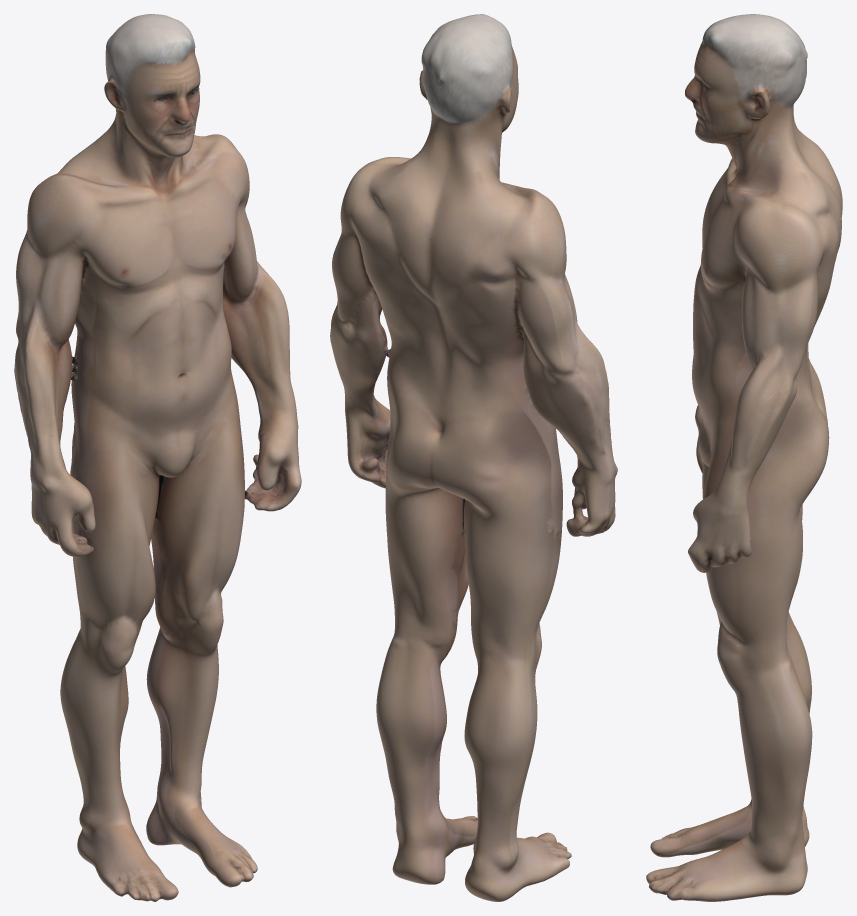
File: oldman.glb
3 views of the same model, side by side, from view 1: azimuth 30°, elevation 25°; view 2: azimuth 150°, elevation 25°; view 3: azimuth 270°, elevation 25° (orthographic).
Size of the model in its own units: 0.656 by 2 by 0.418.
1 material, 1 textured.
